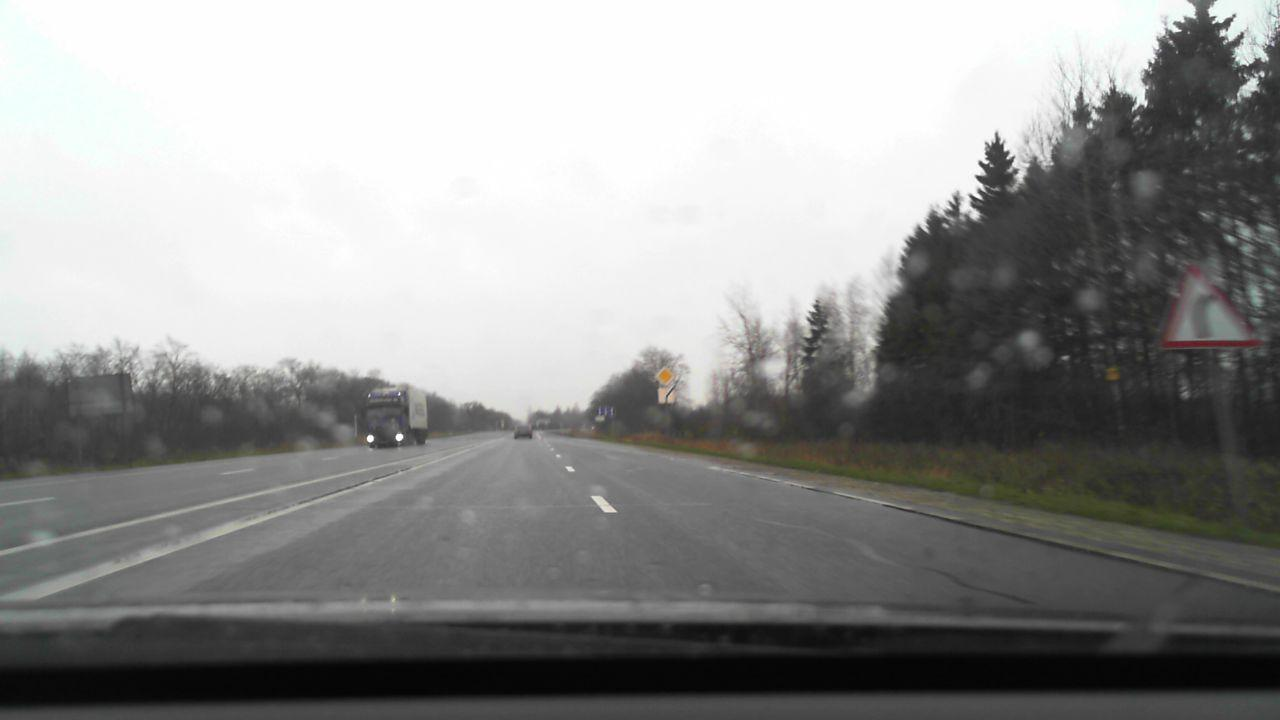1_11_1: (1158, 263, 1262, 349)
2_1: (655, 366, 675, 385)
5_15_1: (597, 406, 616, 417)
8_13: (655, 385, 677, 404)
